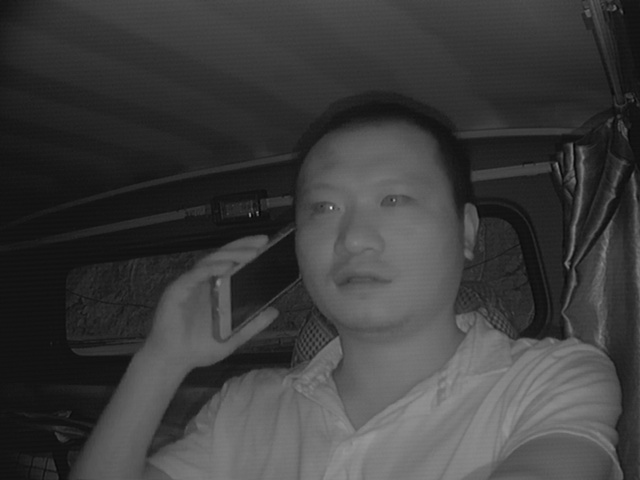hand: (170, 228, 274, 371)
